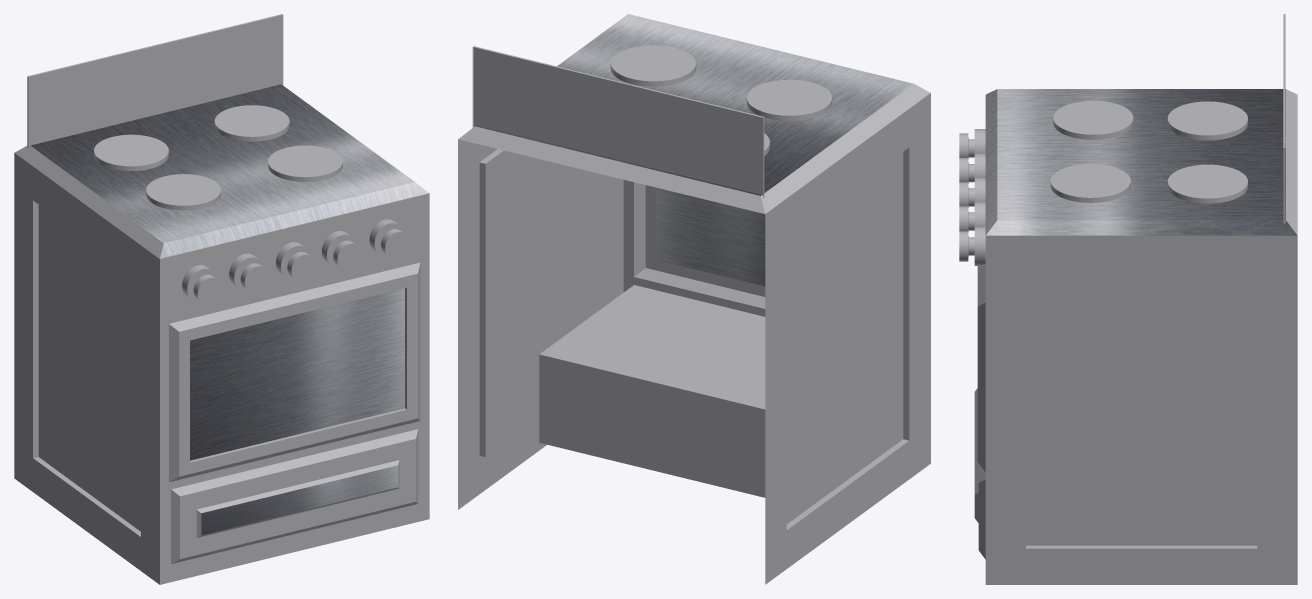
Rendered from EstufaPeque.obj.
3 renders of one model, left to right at view 1: azimuth 30°, elevation 25°; view 2: azimuth 150°, elevation 25°; view 3: azimuth 270°, elevation 25°, orthographic. The views are drawn at different scales.
Parts seen in each view (by area): view 1: polySurface244; view 2: polySurface244; view 3: polySurface244.
Part boxes in pixels (x1,y1,x2,y2): polySurface244: [14, 14, 429, 584]; polySurface244: [458, 14, 930, 584]; polySurface244: [959, 14, 1297, 584].
Bounding box in the file's own units: 2.09 × 3 × 2.12.
4 materials, 4 textured.
